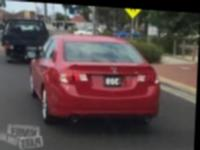License_Plate: (102, 74, 123, 89)
